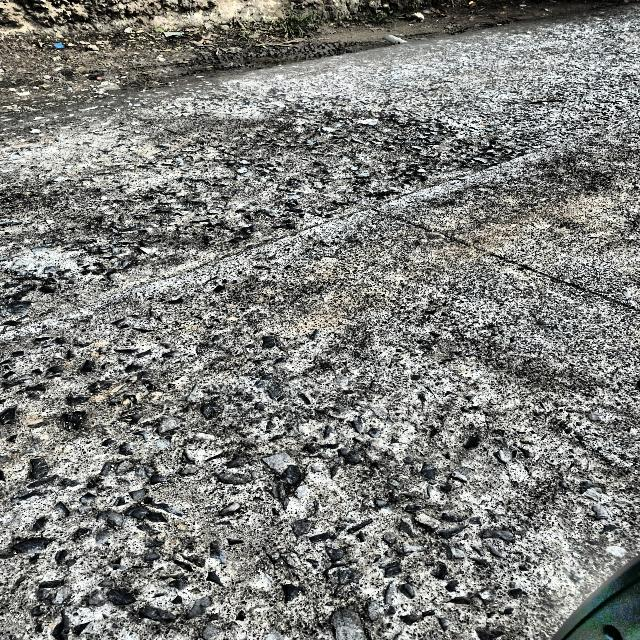major_scaling: (0, 27, 601, 283), (0, 375, 554, 640)
